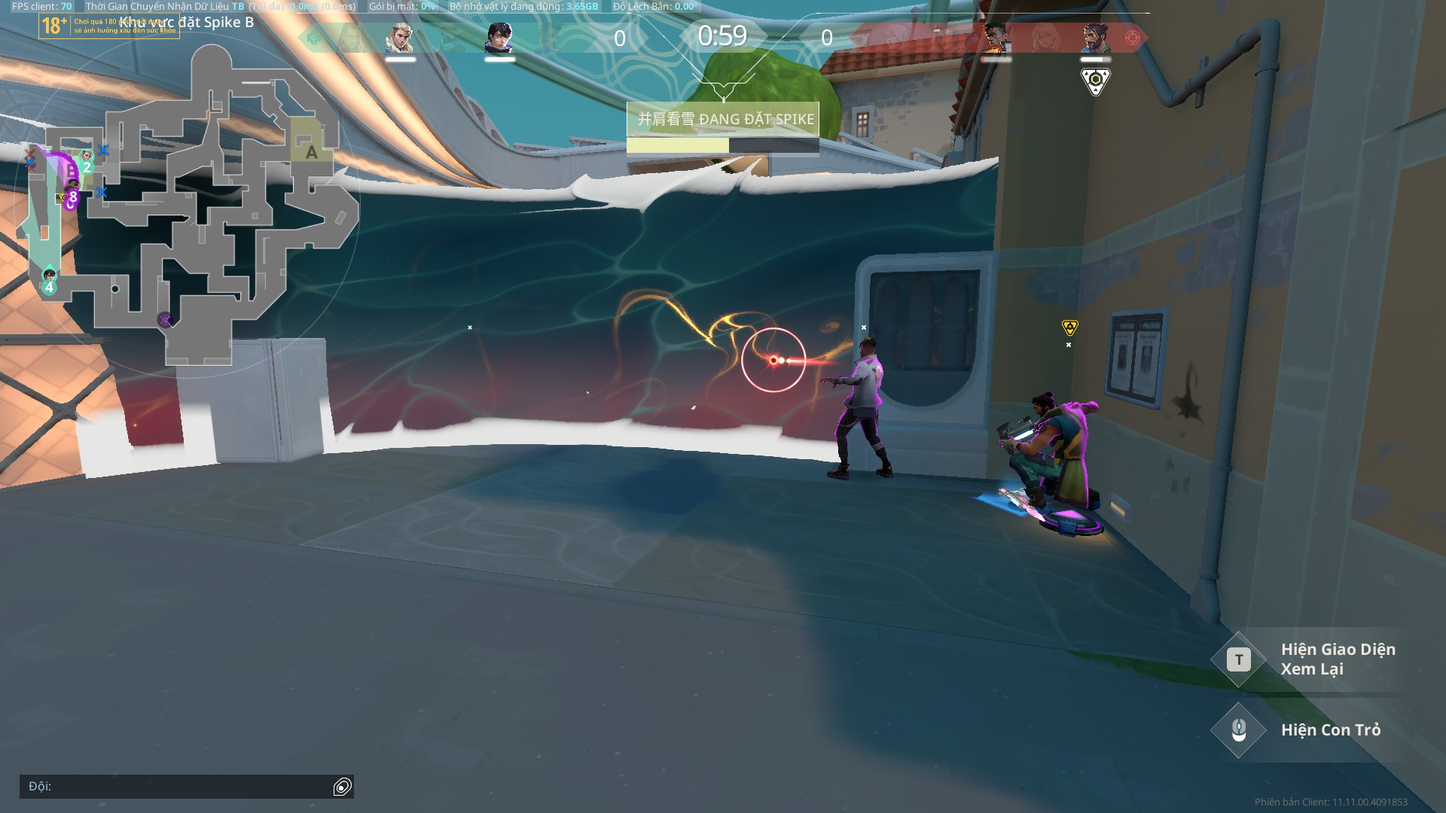body: (1036, 406, 1094, 458), (852, 356, 883, 408)
head: (1028, 388, 1060, 414), (856, 335, 883, 358)
